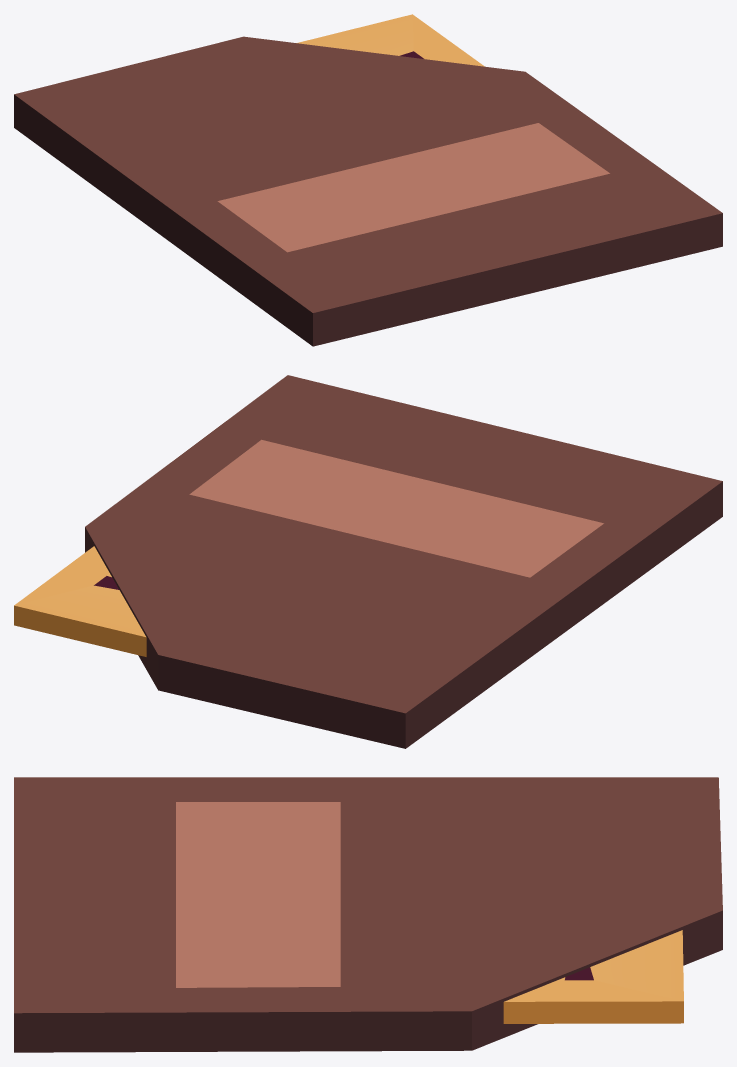
The model's file is Casefile.fbx.
3 views of the same model, one above another, from view 1: azimuth 30°, elevation 25°; view 2: azimuth 150°, elevation 25°; view 3: azimuth 270°, elevation 25° (orthographic). The views are drawn at different scales.
Visible parts, largest first — view 1: CaseFileTop, CaseFileBottom; view 2: CaseFileTop, CaseFileBottom; view 3: CaseFileTop, CaseFileBottom.
Part boxes in pixels (<box>): CaseFileTop: <box>14,36,722,329</box>; CaseFileBottom: <box>14,14,722,346</box>; CaseFileTop: <box>85,375,722,730</box>; CaseFileBottom: <box>14,499,722,748</box>; CaseFileTop: <box>14,777,722,1032</box>; CaseFileBottom: <box>14,930,722,1052</box>.
Bounding box in the file's own units: 40 × 3.12 × 50.82.
